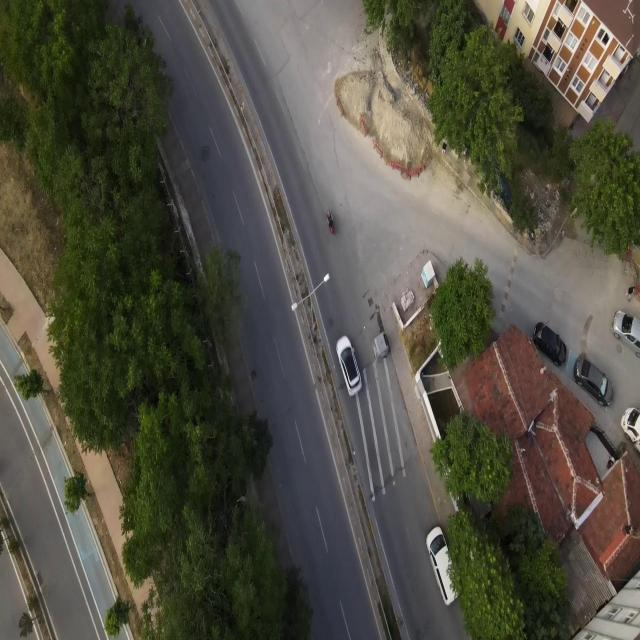p3rson: (626, 286, 636, 302), (442, 142, 447, 154)
